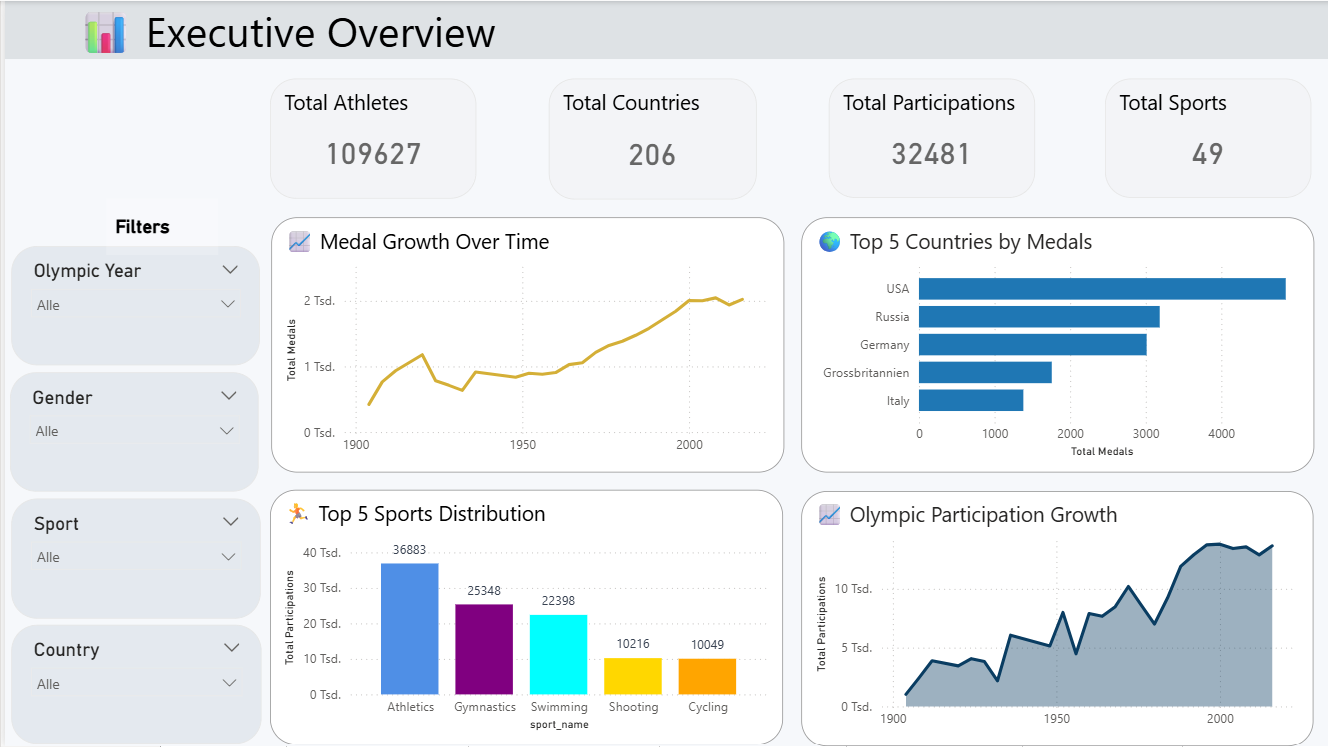

This screenshot's page, from the dashboard's own definition file:
{"tool":"powerbi","page":{"name":"Executive Overview","canvas":[1280,720],"ordinal":1},"visuals":[{"type":"slicer","fields":{"Values":["dim_date.year"]},"box":[5.7,236.1,240.4,115.2],"z":0},{"type":"card","title":"Total Athletes","fields":{"Values":["DAX_Measures.Total Athletes"]},"box":[256,75,199.3,116.2],"z":1000},{"type":"shape","box":[0,0,1280.4,55.9],"z":2000},{"type":"card","title":"Total Countries","fields":{"Values":["DAX_Measures.Total Countries"]},"box":[525.2,75,200.5,116.9],"z":3000},{"type":"card","title":"Total Participations","fields":{"Values":["DAX_Measures.Total Medals"]},"box":[795,75,199.1,115.4],"z":5000},{"type":"card","title":"Total Sports","fields":{"Values":["DAX_Measures.Total Sports"]},"box":[1061.9,75,199.1,115.4],"z":6000},{"type":"lineChart","title":"📈 Medal Growth Over Time","fields":{"Category":["dim_date.year"],"Y":["DAX_Measures.Total Medals"]},"box":[256.8,209.2,495,246.7],"z":8000},{"type":"barChart","title":"🌍 Top 5 Countries by Medals","fields":{"Category":["dim_countries.country_name"],"Y":["DAX_Measures.Total Medals"]},"box":[768,209.2,495,246.7],"z":9000},{"type":"areaChart","title":"📈 Olympic Participation Growth","fields":{"Category":["dim_date.year"],"Y":["DAX_Measures.Total Participations"]},"box":[768,472.9,494.6,247.3],"z":10000},{"type":"columnChart","title":"🏃 Top 5 Sports Distribution","fields":{"Category":["dim_sports.sport_name"],"Y":["DAX_Measures.Total Participations"]},"box":[256,471.8,495,246.7],"z":11000},{"type":"slicer","title":"Filter","fields":{"Values":["dim_sports.sport_name"]},"box":[5.8,480.1,240.9,116.2],"z":12000},{"type":"slicer","title":"Filter","fields":{"Values":["dim_athletes.sex"]},"box":[5.1,358.4,240.4,115.2],"z":13000},{"type":"slicer","title":"Filter","fields":{"Values":["dim_countries.country_name"]},"box":[5.7,601.6,241.8,115.2],"z":14000},{"type":"shape","box":[98,190.5,107.8,54.6],"z":15000}]}

Visuals, with their boxes in screenshot pixels (x1, y1, x2, y2), scaled from the page's 1280x720 canvas onto the 1328x747 screenshot:
slicer - dim_date.year: (6,245,255,364)
"Total Athletes" card: (266,78,472,198)
shape: (0,0,1327,58)
"Total Countries" card: (545,78,753,199)
"Total Participations" card: (825,78,1031,198)
"Total Sports" card: (1102,78,1308,198)
"📈 Medal Growth Over Time" lineChart: (266,217,780,473)
"🌍 Top 5 Countries by Medals" barChart: (797,217,1310,473)
"📈 Olympic Participation Growth" areaChart: (797,491,1310,746)
"🏃 Top 5 Sports Distribution" columnChart: (266,489,779,745)
"Filter" slicer: (6,498,256,619)
"Filter" slicer: (5,372,255,491)
"Filter" slicer: (6,624,257,744)
shape: (102,198,214,254)
